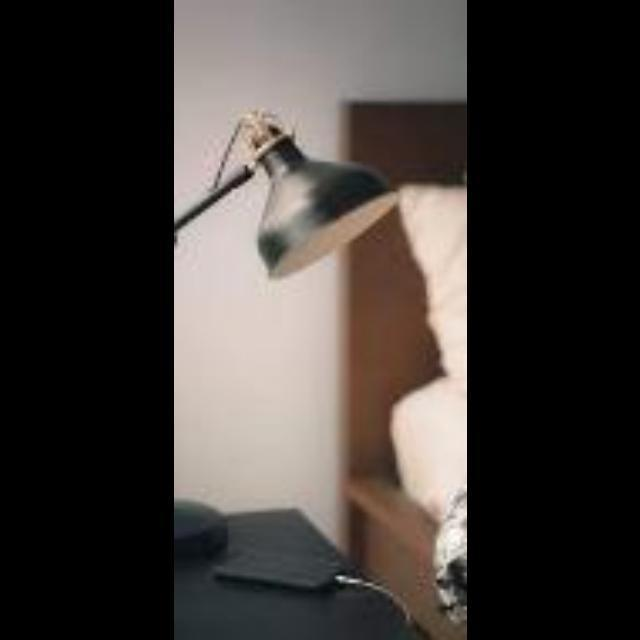PhoneUse: (210, 543, 352, 603)
